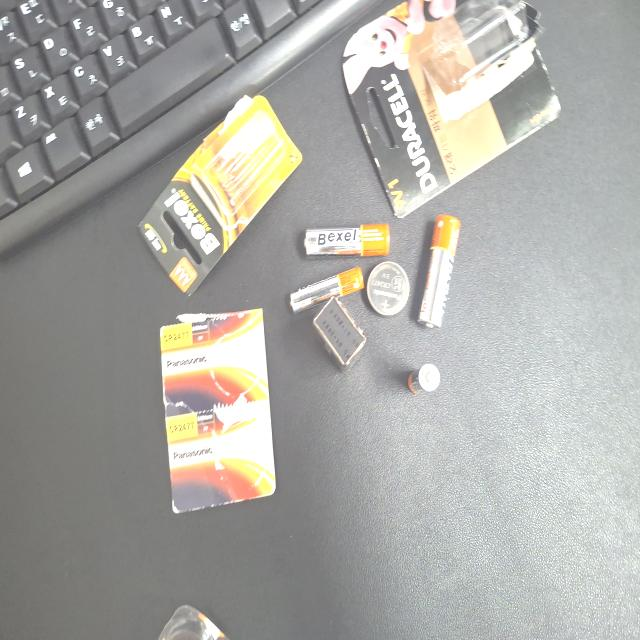9V: (206, 418, 256, 488)
AA: (234, 558, 318, 614), (288, 406, 312, 520)
AAA: (246, 387, 280, 485), (184, 544, 207, 586)
COIN: (244, 489, 284, 546)
